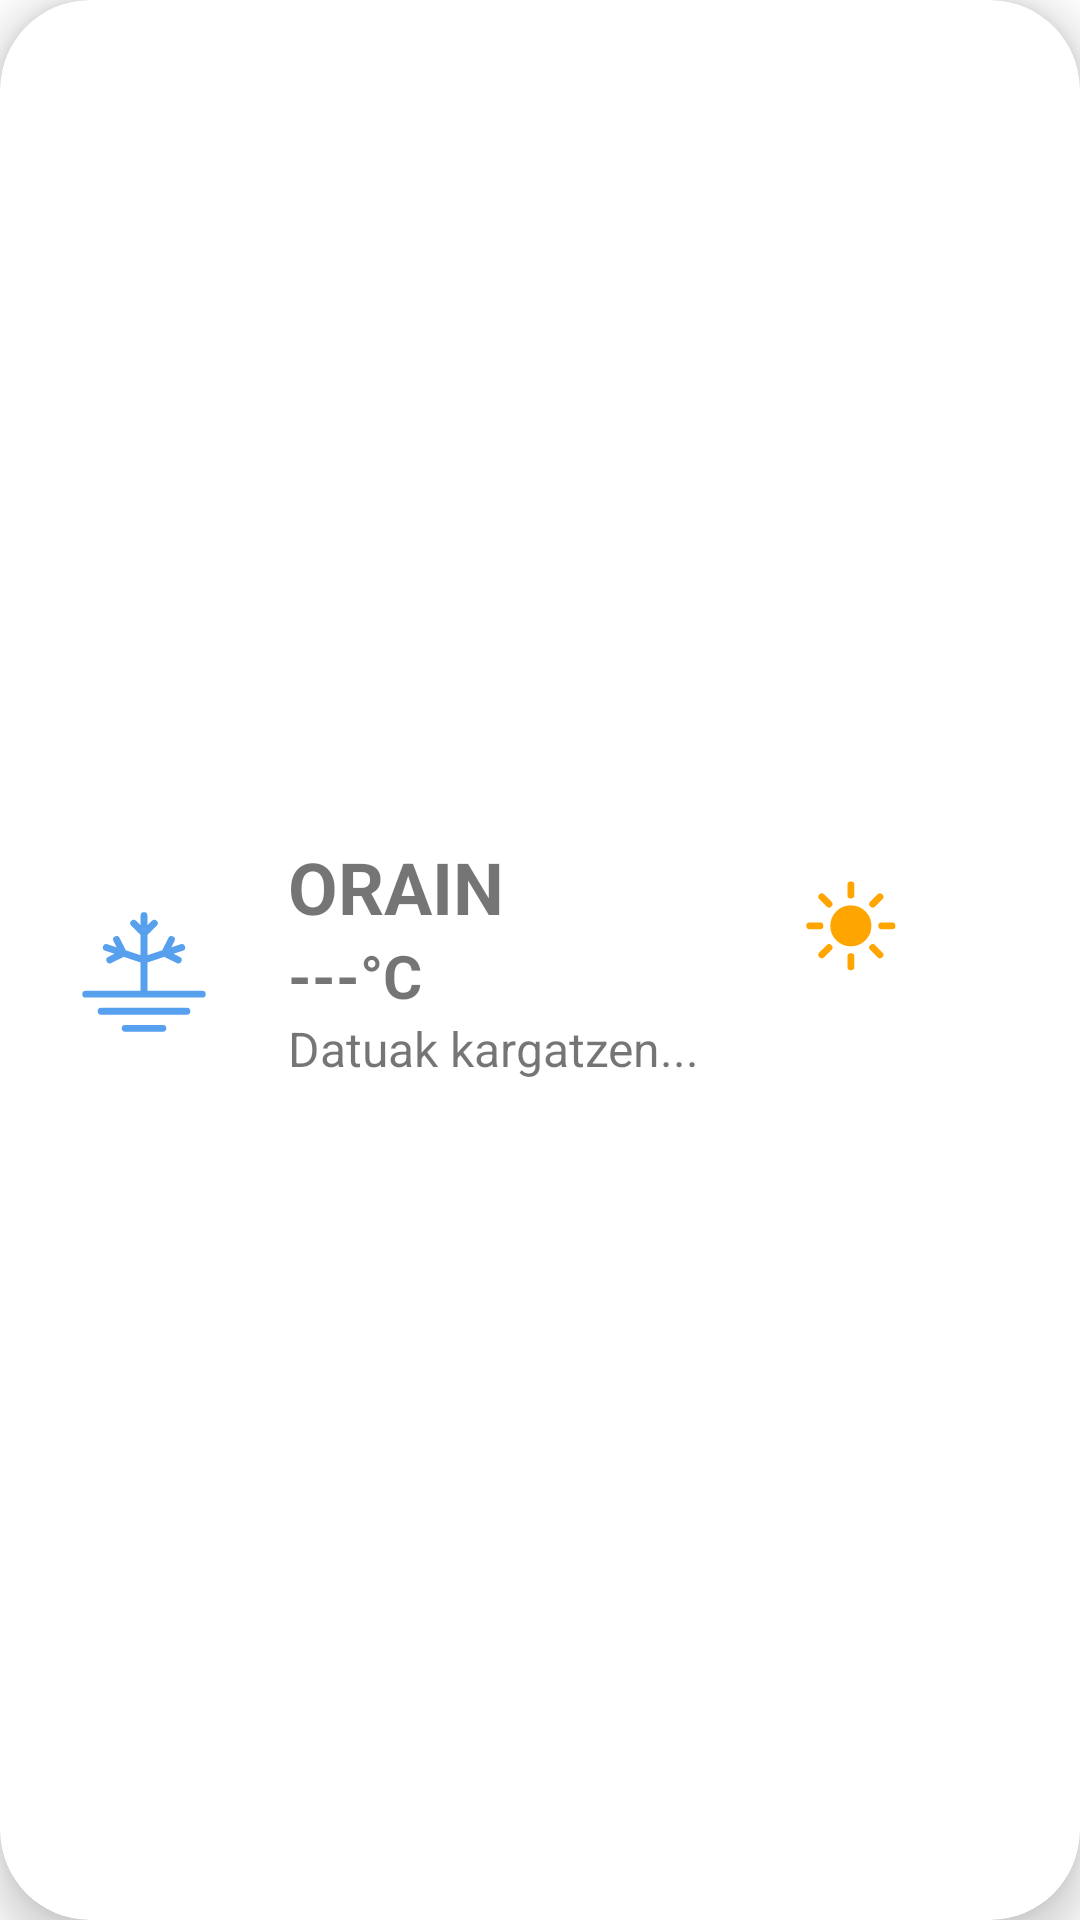

Icon bounding boxes for this 1080*1920 phone screenshot, format bbox=(x1, y1, x2, y2):
clear: bbox=(806, 881, 896, 971)
frost: bbox=(82, 912, 206, 1032)
